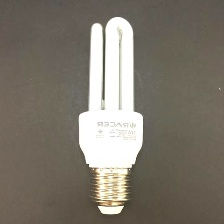light_bulb: (74, 13, 147, 219)
